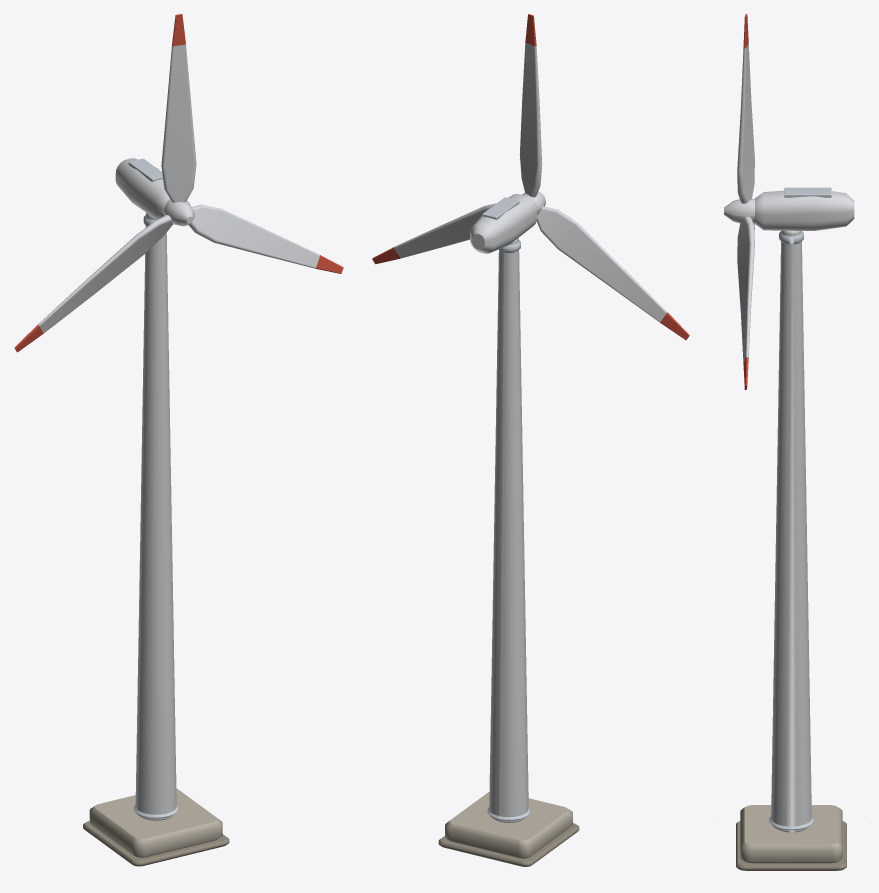
File: eolienne.glb
3 renders of one model, left to right at view 1: azimuth 30°, elevation 25°; view 2: azimuth 150°, elevation 25°; view 3: azimuth 270°, elevation 25°, orthographic. The views are drawn at different scales.
Parts seen in each view (by area): view 1: pieces_eolienne.002, rotor_eolienne.002, pieces_socle_beton.002, nacelle_eolienne.002, pieces_socle_beton_sombre.002, rotor_eolienne_rouge.002; view 2: pieces_eolienne.002, rotor_eolienne.002, pieces_socle_beton.002, nacelle_eolienne.002, pieces_socle_beton_sombre.002, rotor_eolienne_rouge.002; view 3: pieces_eolienne.002, pieces_socle_beton.002, rotor_eolienne.002, nacelle_eolienne.002, pieces_socle_beton_sombre.002, nacelle_eolienne_gris.002, pieces_eolienne_gris.002.
Part boxes in pixels (x1=…): pieces_eolienne.002: x1=135, y1=213, x2=176, y2=820; rotor_eolienne.002: x1=38, y1=44, x2=319, y2=333; pieces_socle_beton.002: x1=89, y1=788, x2=222, y2=857; nacelle_eolienne.002: x1=115, y1=158, x2=170, y2=219; pieces_socle_beton_sombre.002: x1=83, y1=821, x2=229, y2=866; rotor_eolienne_rouge.002: x1=14, y1=14, x2=343, y2=352; pieces_eolienne.002: x1=489, y1=238, x2=528, y2=822; rotor_eolienne.002: x1=394, y1=43, x2=667, y2=322; pieces_socle_beton.002: x1=445, y1=792, x2=572, y2=858; nacelle_eolienne.002: x1=470, y1=194, x2=537, y2=253; pieces_socle_beton_sombre.002: x1=438, y1=823, x2=579, y2=866; rotor_eolienne_rouge.002: x1=372, y1=14, x2=689, y2=339; pieces_eolienne.002: x1=771, y1=230, x2=811, y2=832; pieces_socle_beton.002: x1=740, y1=805, x2=842, y2=863; rotor_eolienne.002: x1=724, y1=44, x2=754, y2=363; nacelle_eolienne.002: x1=755, y1=190, x2=854, y2=230; pieces_socle_beton_sombre.002: x1=736, y1=821, x2=846, y2=870; nacelle_eolienne_gris.002: x1=784, y1=187, x2=831, y2=197; pieces_eolienne_gris.002: x1=769, y1=231, x2=813, y2=830.
Size of the model in its own units: 2.58 by 6.28 by 1.
